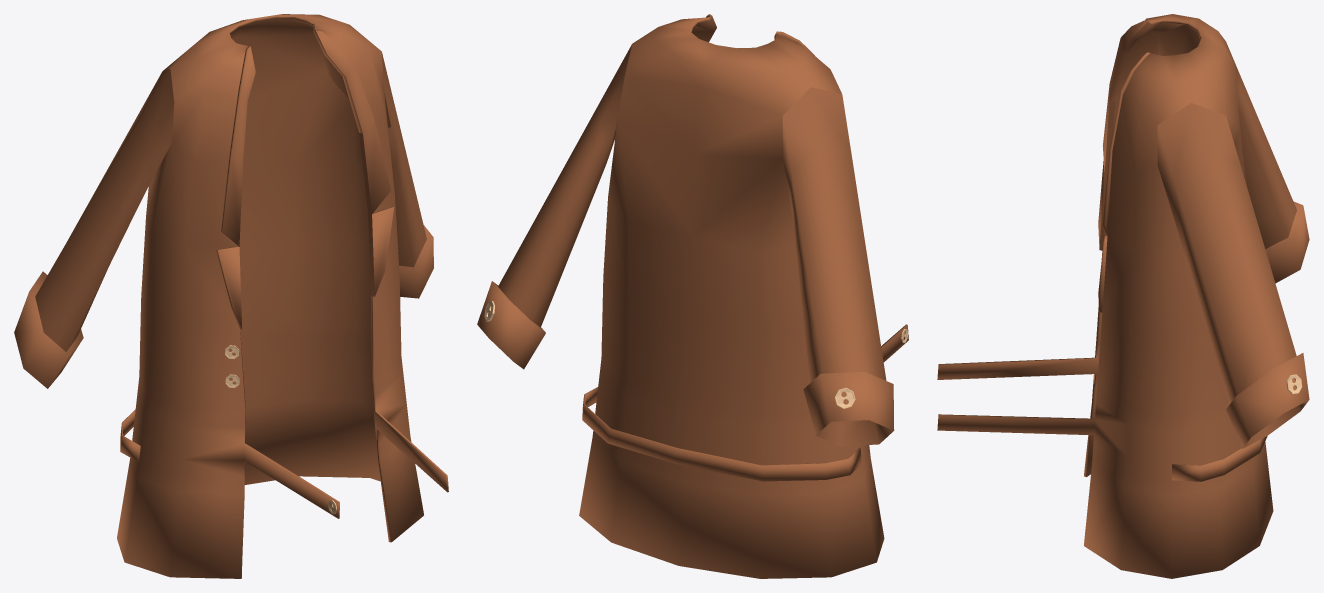
File: trench_coat.glb
3 views of the same model, side by side, from view 1: azimuth 30°, elevation 25°; view 2: azimuth 150°, elevation 25°; view 3: azimuth 270°, elevation 25° (orthographic). The views are drawn at different scales.
Parts seen in each view (by area): view 1: Coat_0; view 2: Coat_0; view 3: Coat_0.
Boxes of the visible parts, <box> form: Coat_0: <box>14,14,448,578</box>; Coat_0: <box>477,14,908,578</box>; Coat_0: <box>937,14,1309,578</box>.
Bounding box in the file's own units: 2.5 × 2.9 × 2.06.
